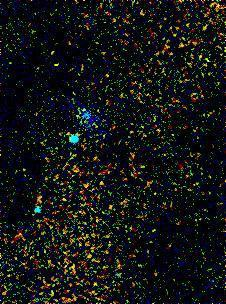star: (41, 48, 71, 78)
